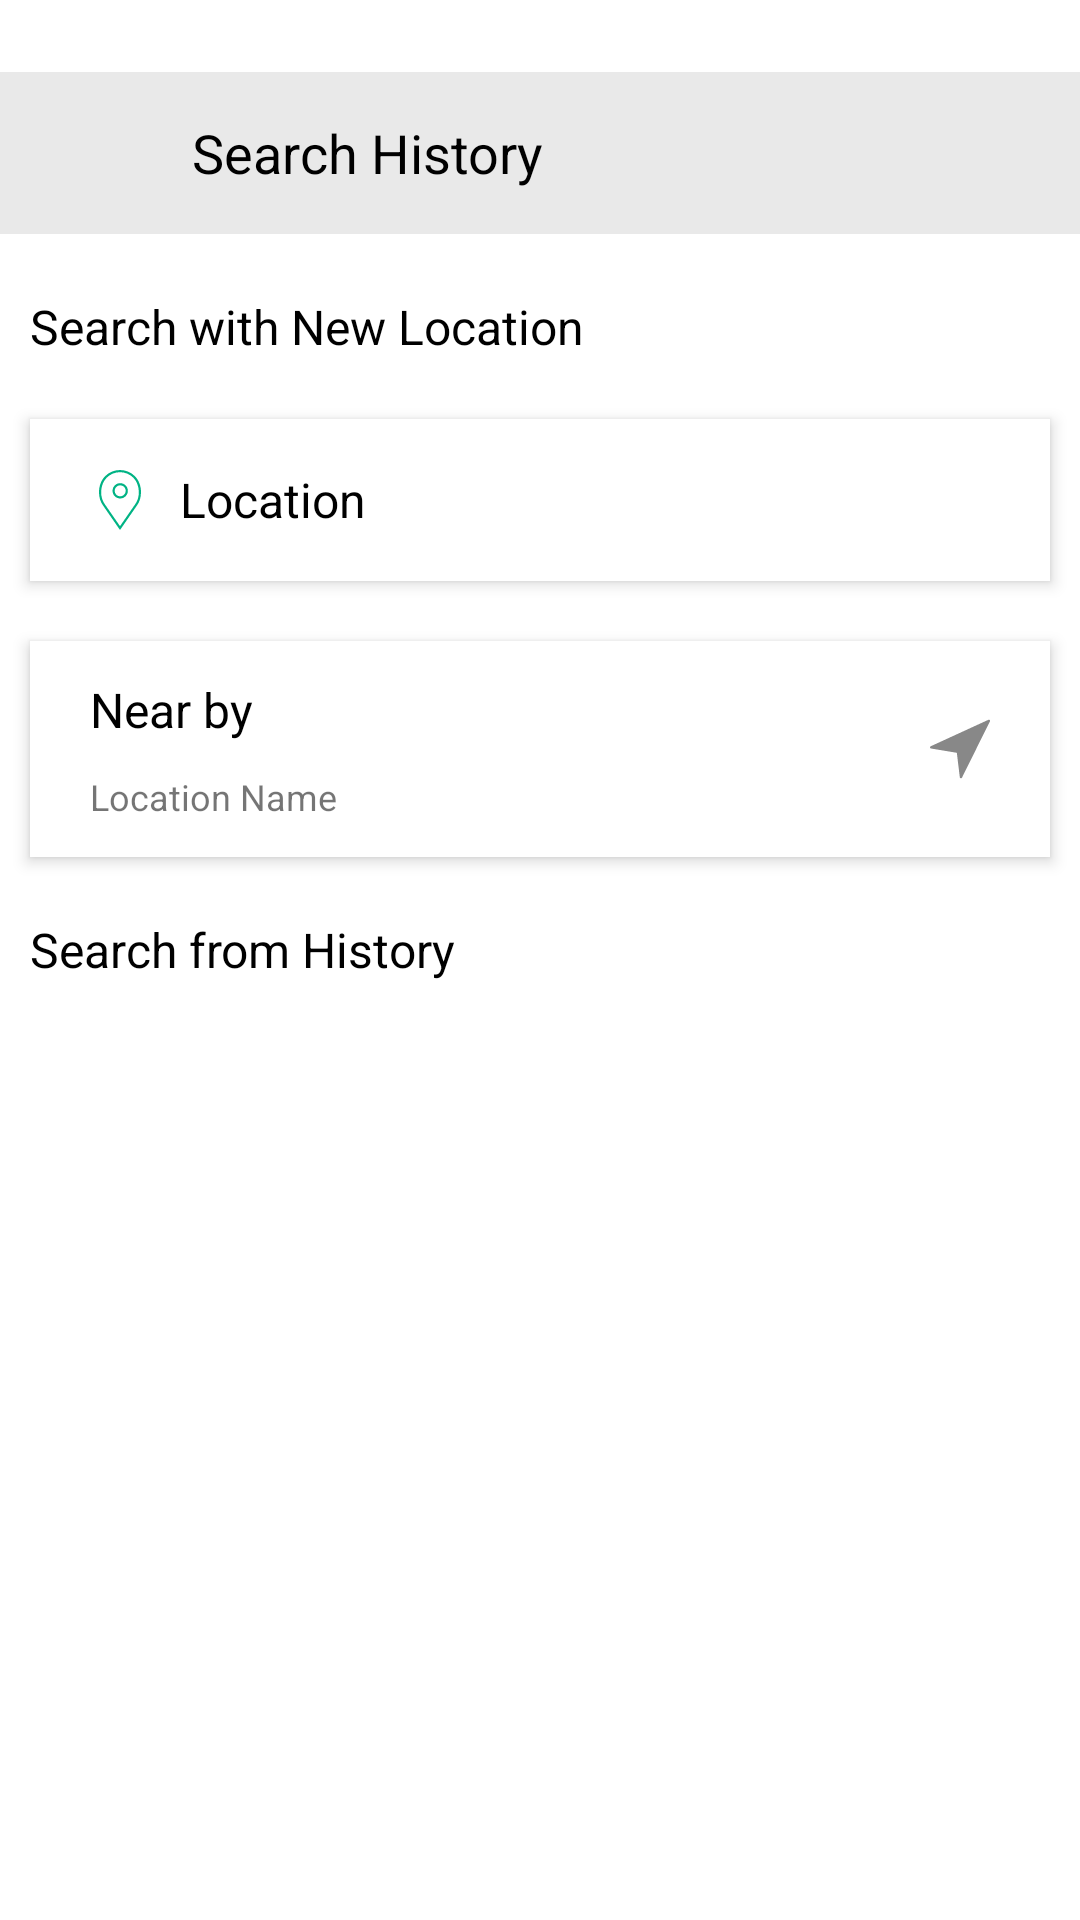

Screen size 1080×1920. Icon name, then its center in pixels as (x,y):
search navigation: (960,749)
